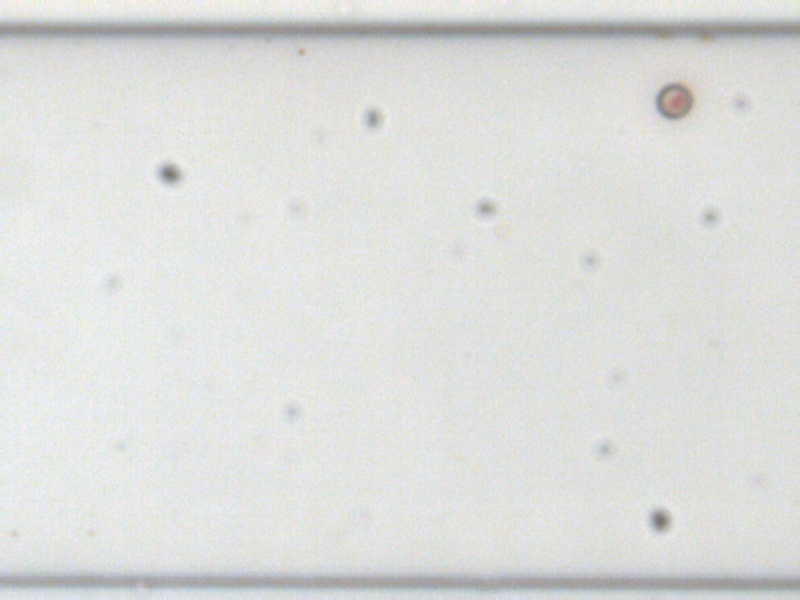Porphyridium: (653, 81, 693, 120)
